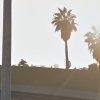Palm tree: (46, 4, 87, 67)
